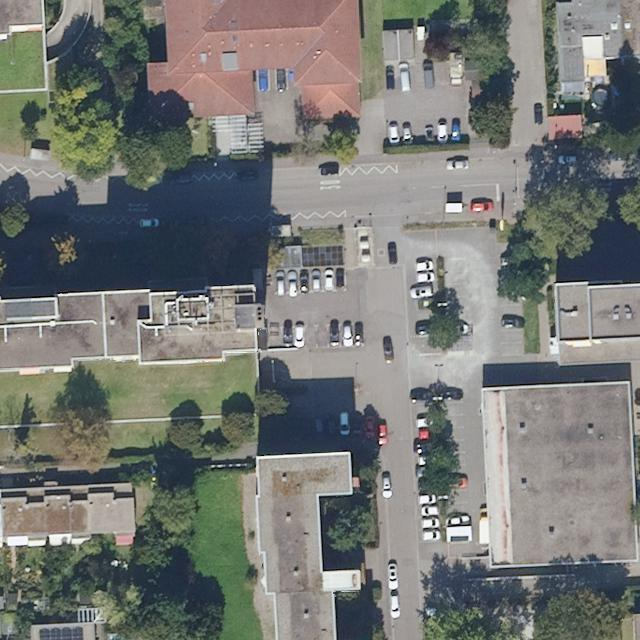PV: (37, 625, 86, 639)
